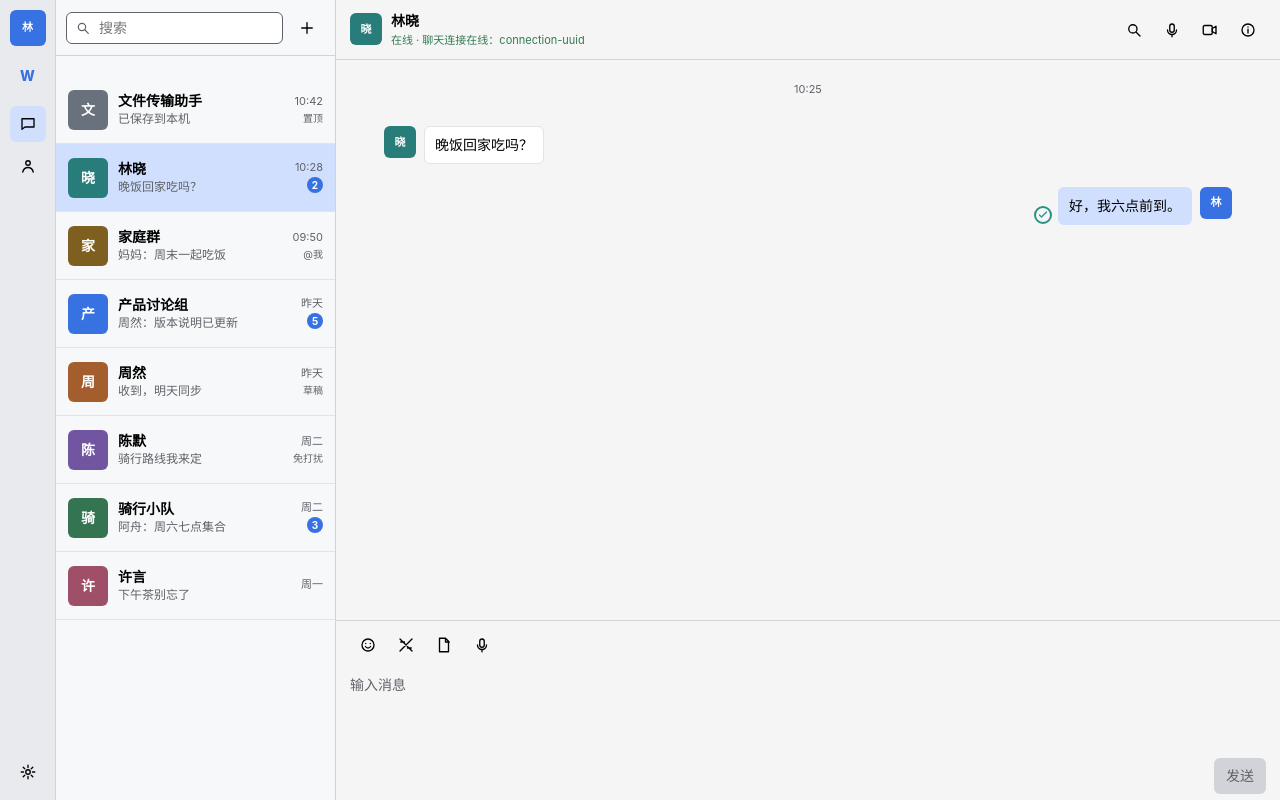
it: AuthenticatedShell › opens a contact profile and enters its conversation
Click the button named "好友" at (28, 166), box 10,148 -> 46,184
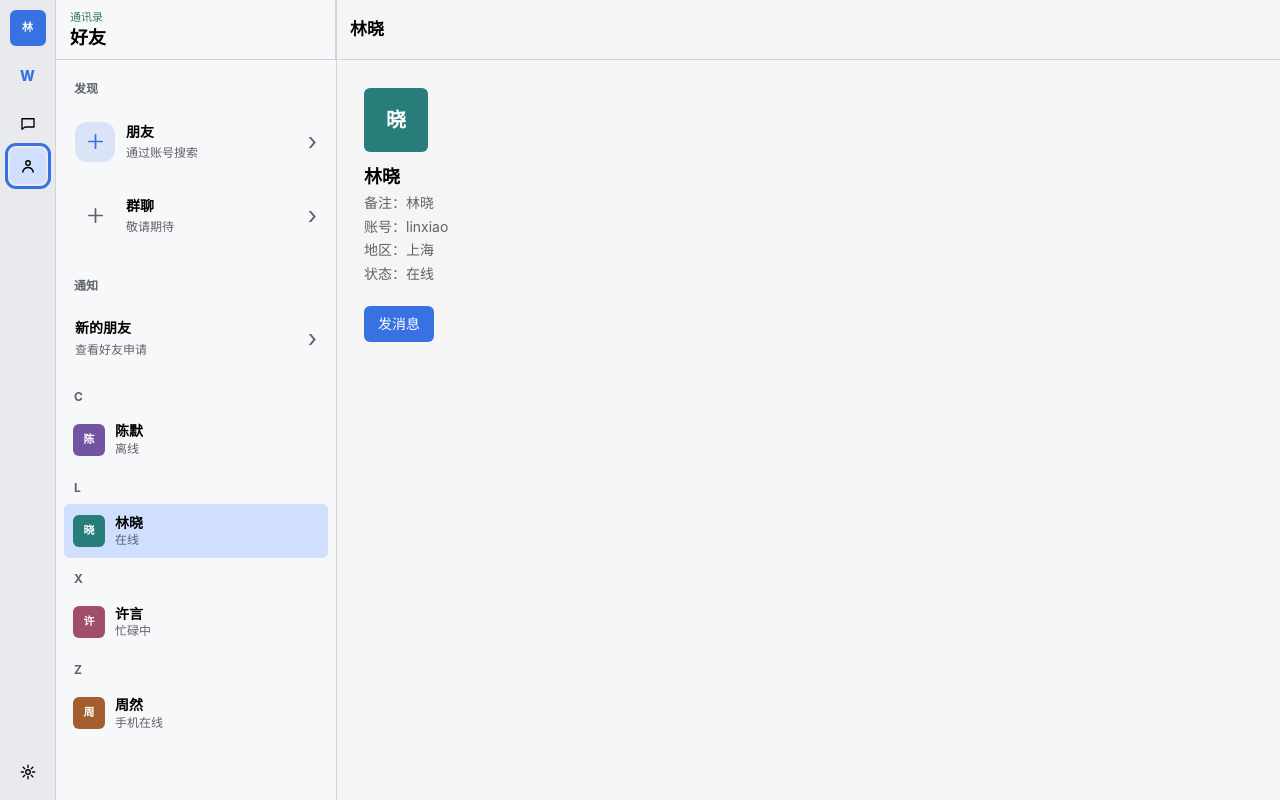
Click the button "周 周然 手机在线" at (89, 713), box 64,686 -> 328,740
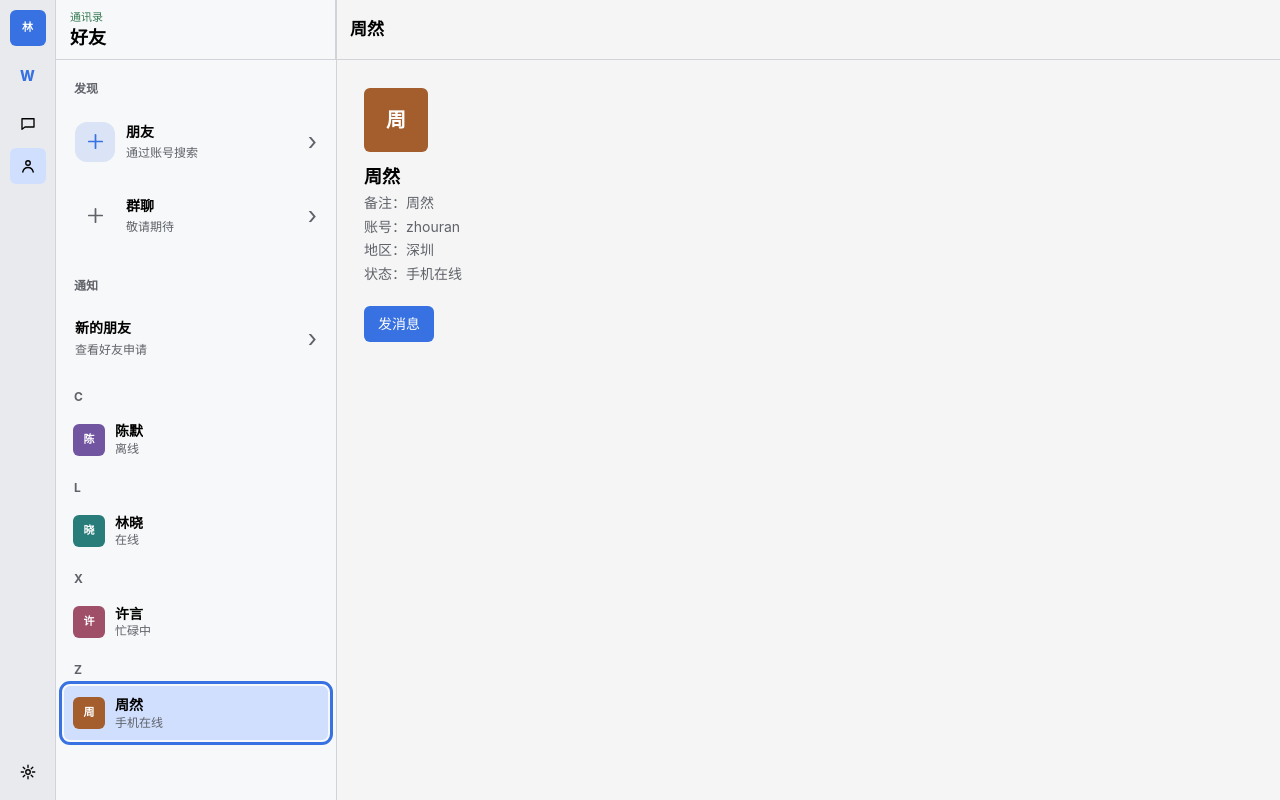
Expected: the text "账号：zhouran" is shown, 364,218 -> 460,235
Expected: the text "地区：深圳" is shown, 364,241 -> 434,258
Click the button "发消息" at (399, 324), box 364,306 -> 434,342
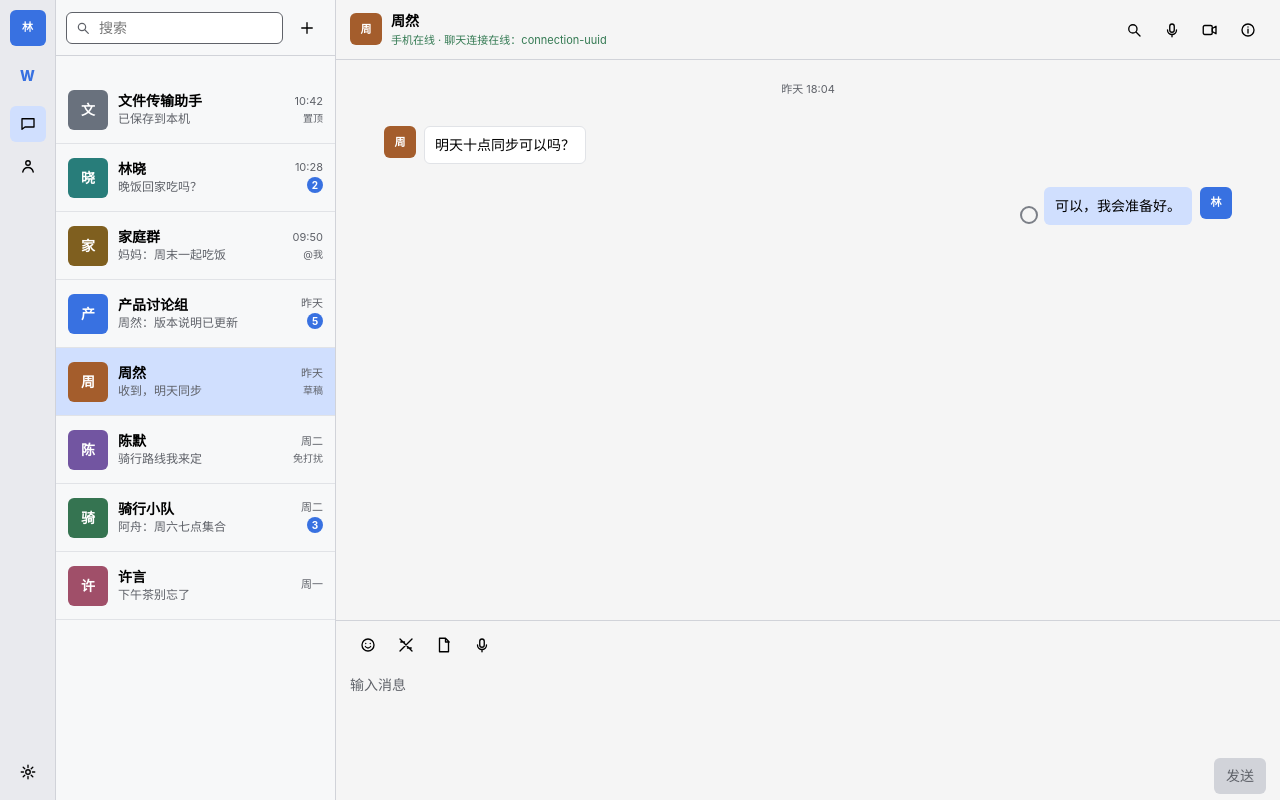
Expected: the heading "周然" is shown, 391,12 -> 419,29
Expected: the text "可以，我会准备好。" is shown, 1044,187 -> 1192,225
